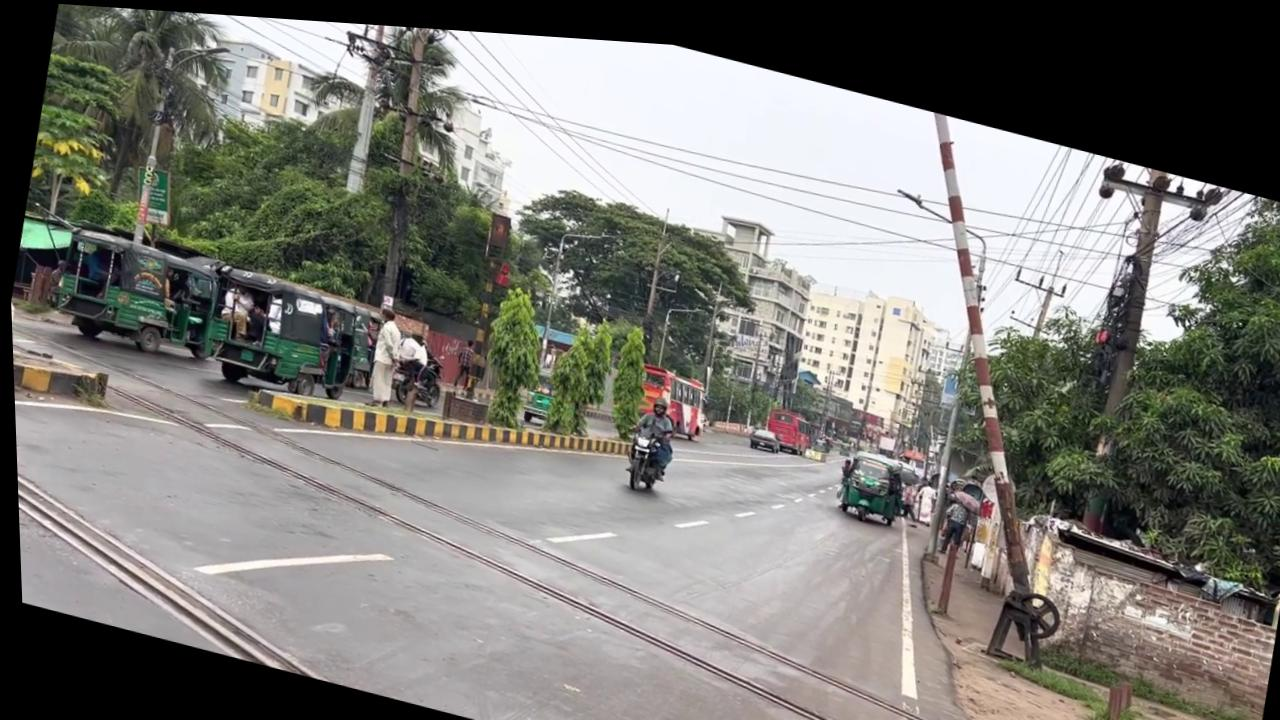Bollard: (743, 414, 779, 444)
Car: (245, 336, 634, 498)
Curb: (614, 410, 673, 489), (383, 335, 445, 405)
Fence: (357, 299, 407, 406), (447, 329, 475, 386)
Garbage: (832, 94, 1137, 659), (1031, 138, 1233, 539), (1065, 151, 1178, 526), (528, 211, 619, 374), (336, 18, 405, 192)
Motorcycle: (9, 326, 1270, 720), (382, 492, 1133, 720)
Railroad-crossing: (1047, 141, 1280, 581), (465, 270, 556, 429), (532, 299, 618, 437), (597, 311, 656, 434)
Rickshaw: (45, 215, 227, 366), (627, 352, 710, 434), (758, 393, 812, 447)
